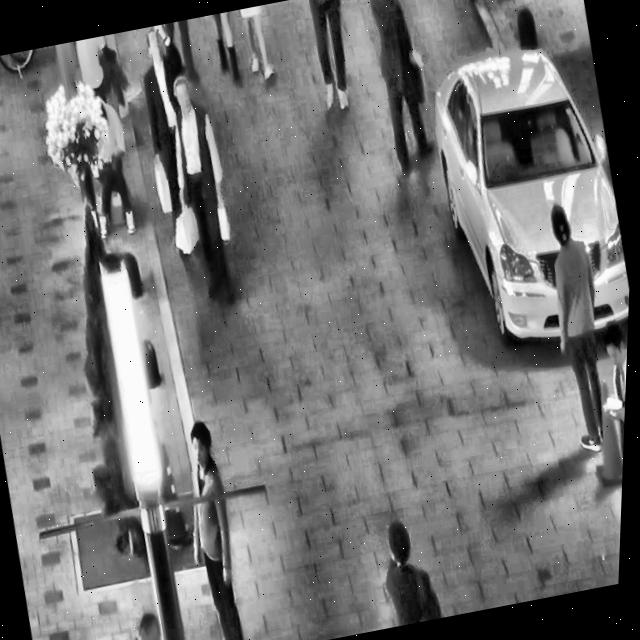light_vehicle: (407, 17, 640, 364)
